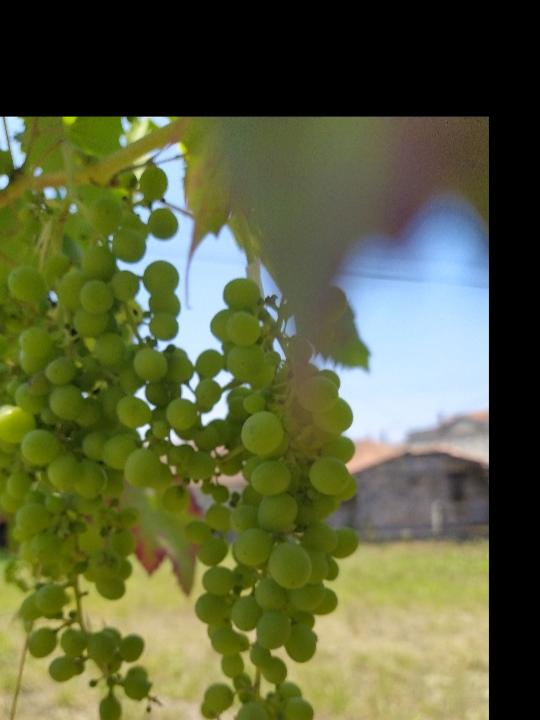grape: (0, 163, 194, 720), (191, 276, 361, 720)
